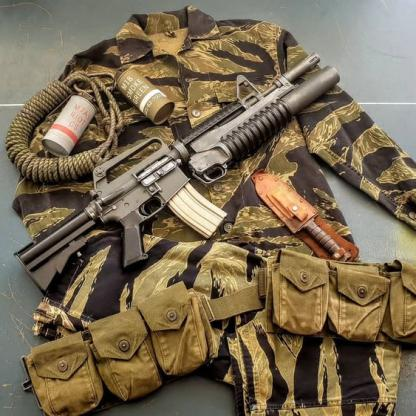Grenade: (40, 88, 98, 159), (112, 65, 177, 126)
Gun: (12, 51, 342, 294)
Knife: (251, 166, 361, 264)
